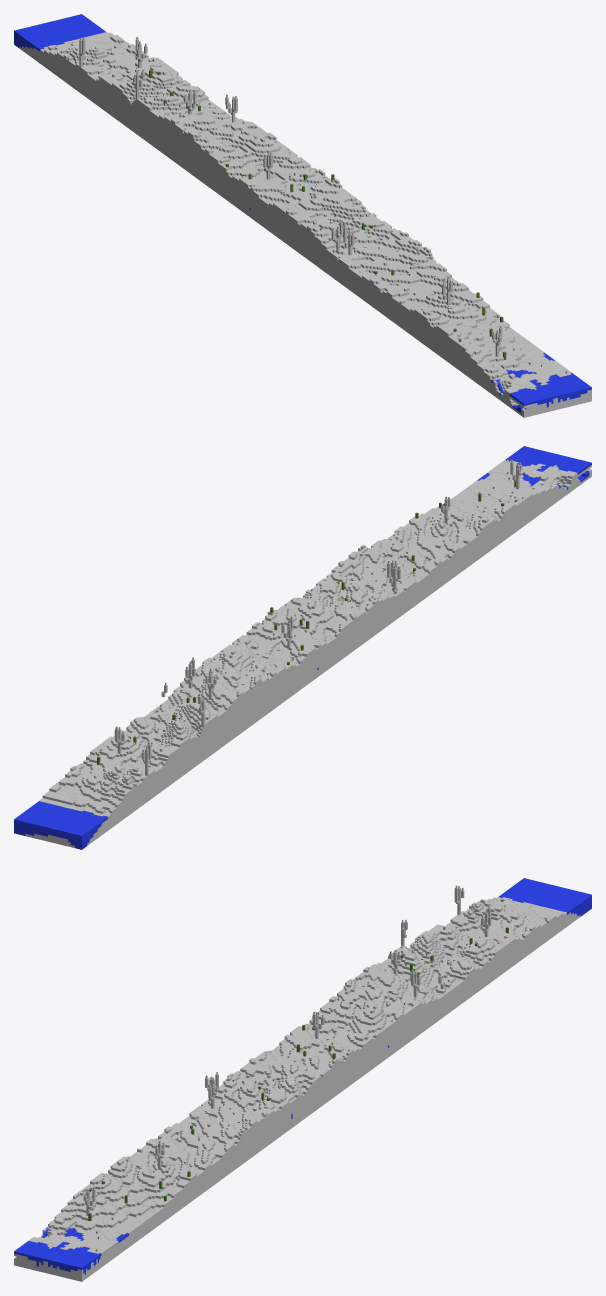
File: Flat.obj
3 views of the same model, one above another, from view 1: azimuth 30°, elevation 25°; view 2: azimuth 150°, elevation 25°; view 3: azimuth 330°, elevation 25° (orthographic).
Parts seen in each view (by area): view 1: Sand, Stone, Stationary_Water, Grass_Path, Colored_Terracotta, Dirt, Concrete; view 2: Sand, Stone, Stationary_Water, Grass_Path, Colored_Terracotta, Dirt, Concrete; view 3: Sand, Stone, Stationary_Water, Grass_Path, Colored_Terracotta, Dirt, Concrete, Cactus.
Boxes of the visible parts, <box> form: Sand: <box>19,32,591,415</box>; Stone: <box>40,61,566,417</box>; Stationary_Water: <box>14,14,591,412</box>; Grass_Path: <box>43,38,555,389</box>; Colored_Terracotta: <box>79,39,530,378</box>; Dirt: <box>48,43,518,395</box>; Concrete: <box>79,42,502,342</box>; Sand: <box>25,460,591,847</box>; Stone: <box>108,474,591,830</box>; Stationary_Water: <box>14,446,591,849</box>; Grass_Path: <box>55,465,563,816</box>; Colored_Terracotta: <box>114,462,541,763</box>; Dirt: <box>68,486,565,819</box>; Concrete: <box>114,465,522,756</box>; Sand: <box>14,897,580,1281</box>; Stone: <box>14,922,570,1275</box>; Stationary_Water: <box>14,878,591,1274</box>; Grass_Path: <box>42,897,551,1248</box>; Colored_Terracotta: <box>62,887,491,1238</box>; Dirt: <box>41,922,551,1253</box>; Concrete: <box>83,890,491,1201</box>; Cactus: <box>88,927,508,1221</box>.
Size of the model in its own units: 30 by 27 by 390.
